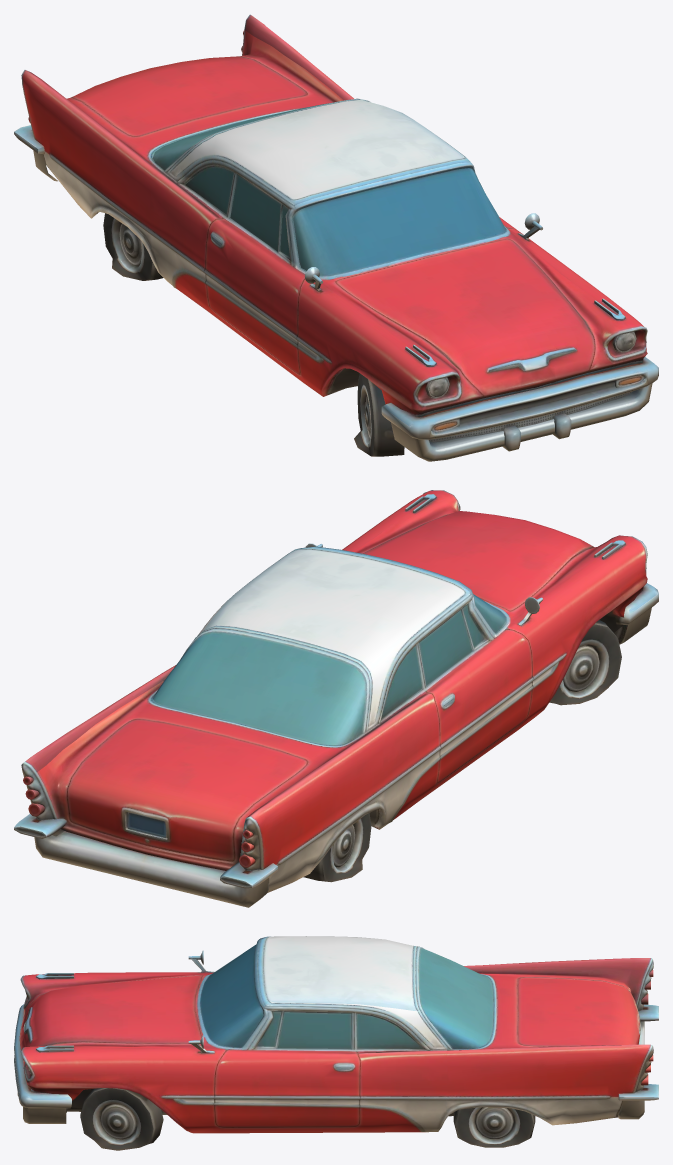
File: demo-car.glb
3 views of the same model, one above another, from view 1: azimuth 30°, elevation 25°; view 2: azimuth 150°, elevation 25°; view 3: azimuth 270°, elevation 25° (orthographic). The views are drawn at different scales.
Parts seen in each view (by area): view 1: Car; view 2: Car; view 3: Car.
Boxes of the visible parts, bbox=[...] form: Car: bbox=[14, 14, 658, 461]; Car: bbox=[14, 490, 658, 907]; Car: bbox=[14, 936, 658, 1150].
Bounding box in the file's own units: 2.43 × 1.66 × 6.89.
1 material, 1 textured.
